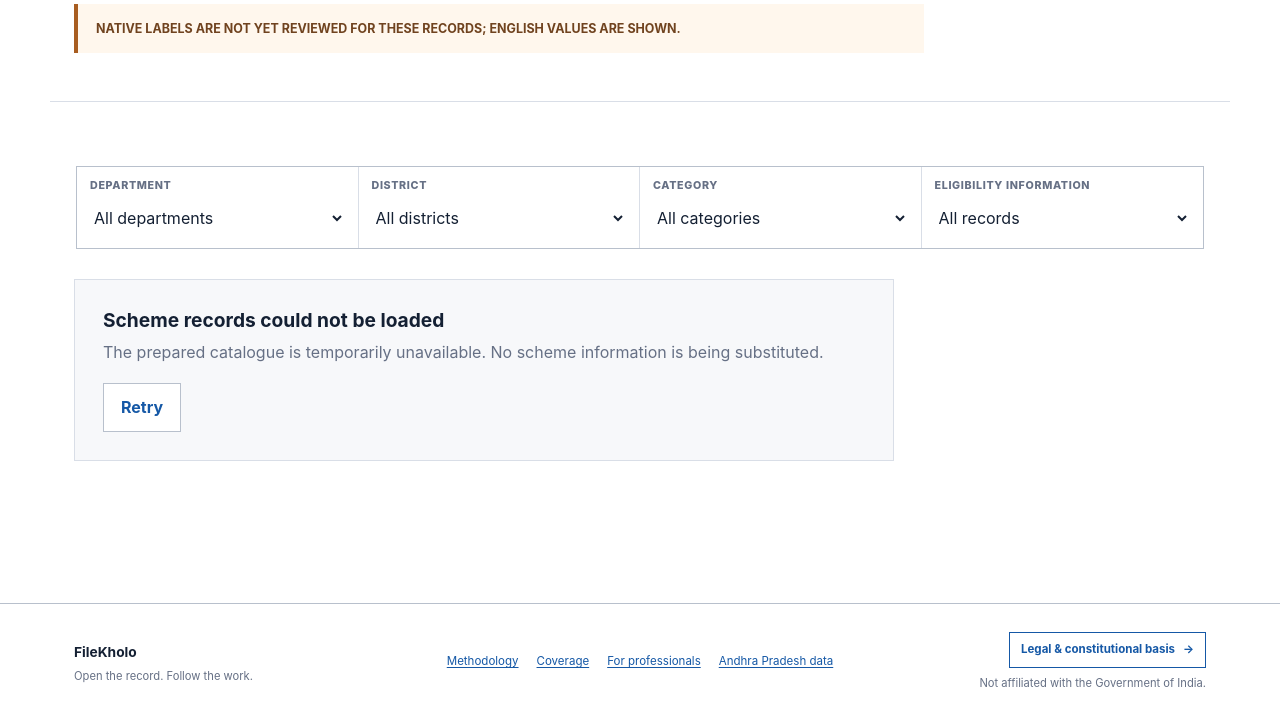
Test case: SchemesDirectory › reports catalogue failures and retries without substitute data
(page scrolled)
Expected: the message shows "No scheme information is being substituted", [103,342,824,362]
Click the button "Retry" at coordinates (142, 407), box [103,383,181,432]
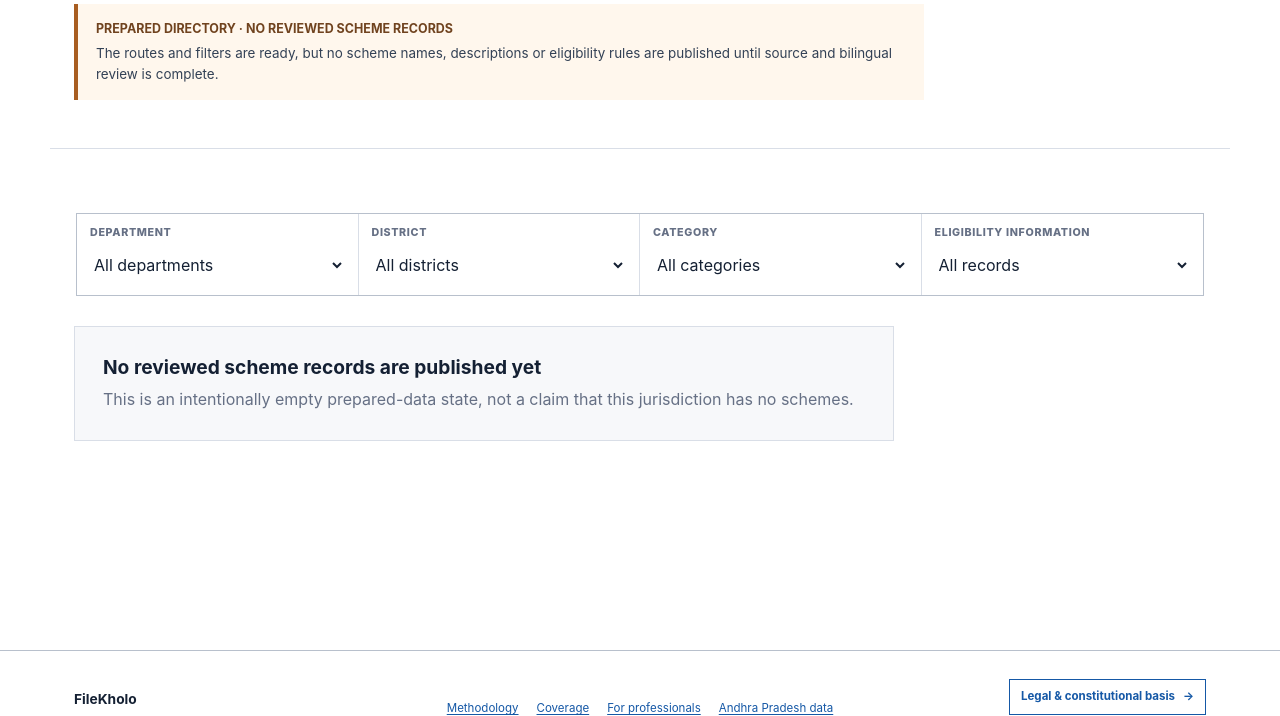
Now the heading "No reviewed scheme records are published yet" is shown, box [103,355,541,379]
